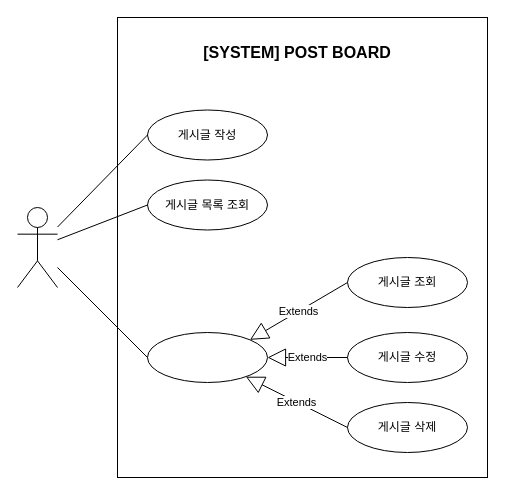
Some shapes in this 505 by 495 pixel diagram are drawn without their labels. The shapes that lost their labels are listed below. From the top down, each one's centre as x and y in pixels, then its label:
At pixel 37 247: "User".
At pixel 207 357: "게시글 보기".
